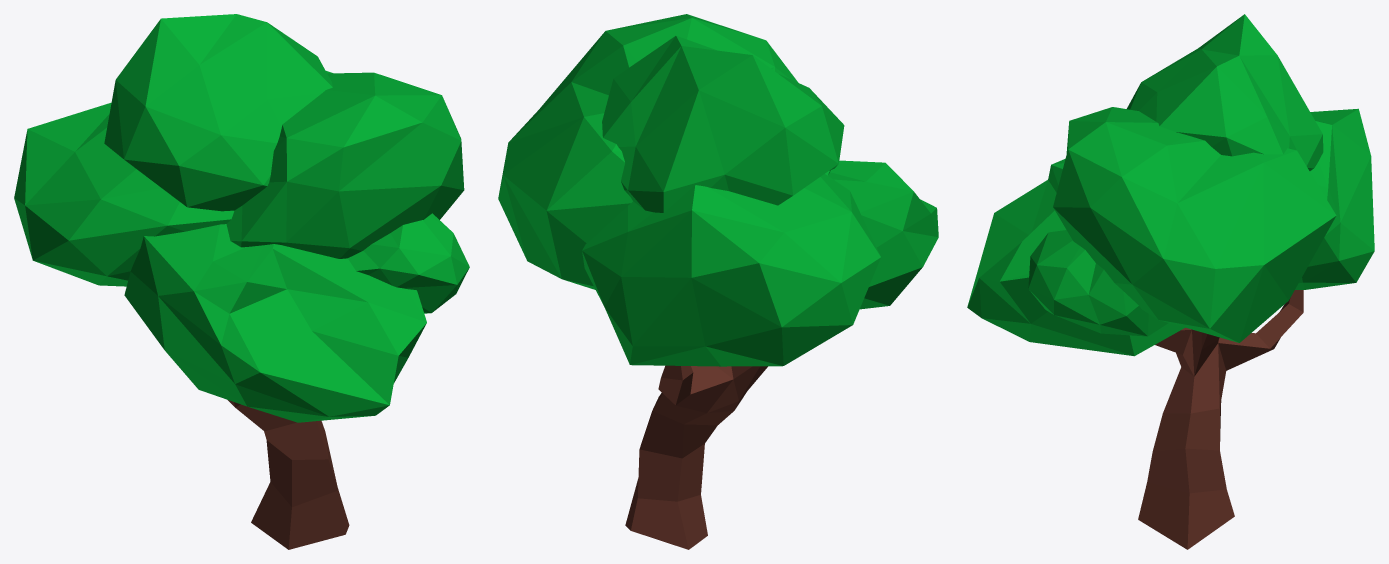
File: TreeA_03Main.fbx
3 views of the same model, side by side, from view 1: azimuth 30°, elevation 25°; view 2: azimuth 150°, elevation 25°; view 3: azimuth 270°, elevation 25° (orthographic). The views are drawn at different scales.
Parts seen in each view (by area): view 1: TreeA_03Main; view 2: TreeA_03Main; view 3: TreeA_03Main.
Boxes of the visible parts, x1,y1,x2,y2 form: TreeA_03Main: [14, 14, 469, 549]; TreeA_03Main: [498, 14, 938, 549]; TreeA_03Main: [967, 14, 1374, 549].
Bounding box in the file's own units: 8.35 × 10.91 × 8.62.
